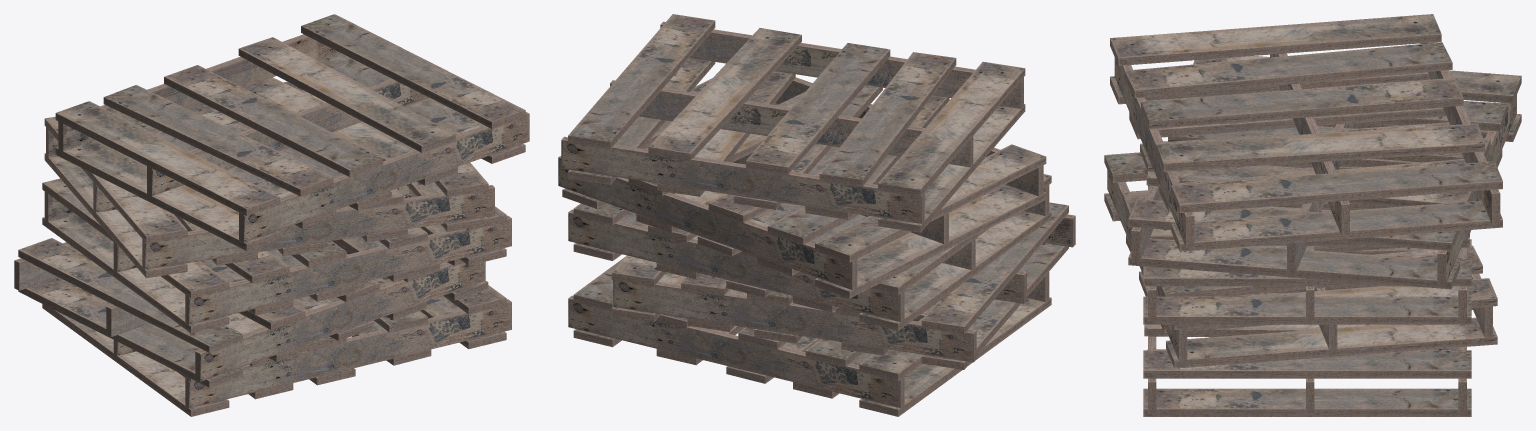
The model's file is Palet_v1_set (10).glb.
3 renders of one model, left to right at view 1: azimuth 30°, elevation 25°; view 2: azimuth 150°, elevation 25°; view 3: azimuth 270°, elevation 25°, orthographic. The views are drawn at different scales.
Parts seen in each view (by area): view 1: Palet_v1_set (10); view 2: Palet_v1_set (10); view 3: Palet_v1_set (10).
Boxes of the visible parts, x1,y1,x2,y2 form: Palet_v1_set (10): (14,14,529,416); Palet_v1_set (10): (558,14,1075,416); Palet_v1_set (10): (1104,14,1521,416).
Bounding box in the file's own units: 2.21 × 1.08 × 1.77.
Materials: 1 (1 with a texture image).
